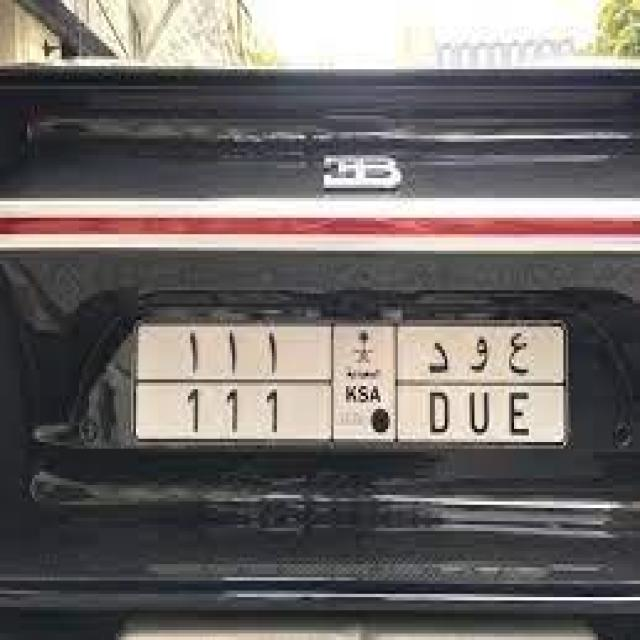license_plate: (129, 311, 575, 456)
